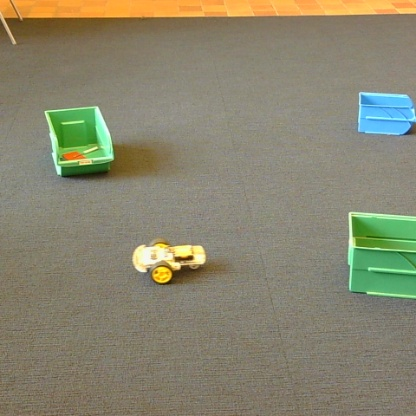robot: (133, 239, 205, 283)
